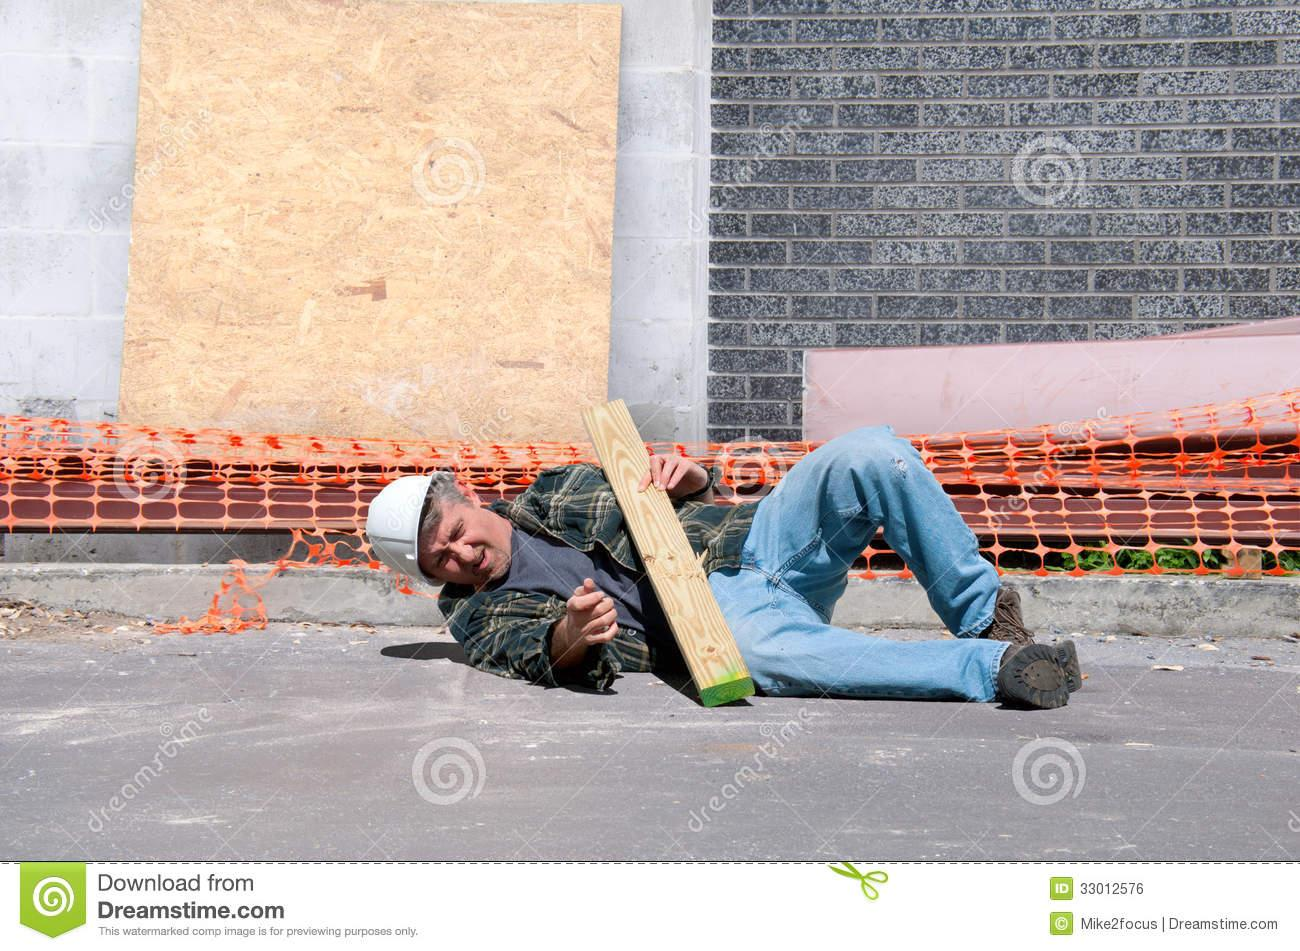helmet: (362, 472, 432, 570)
